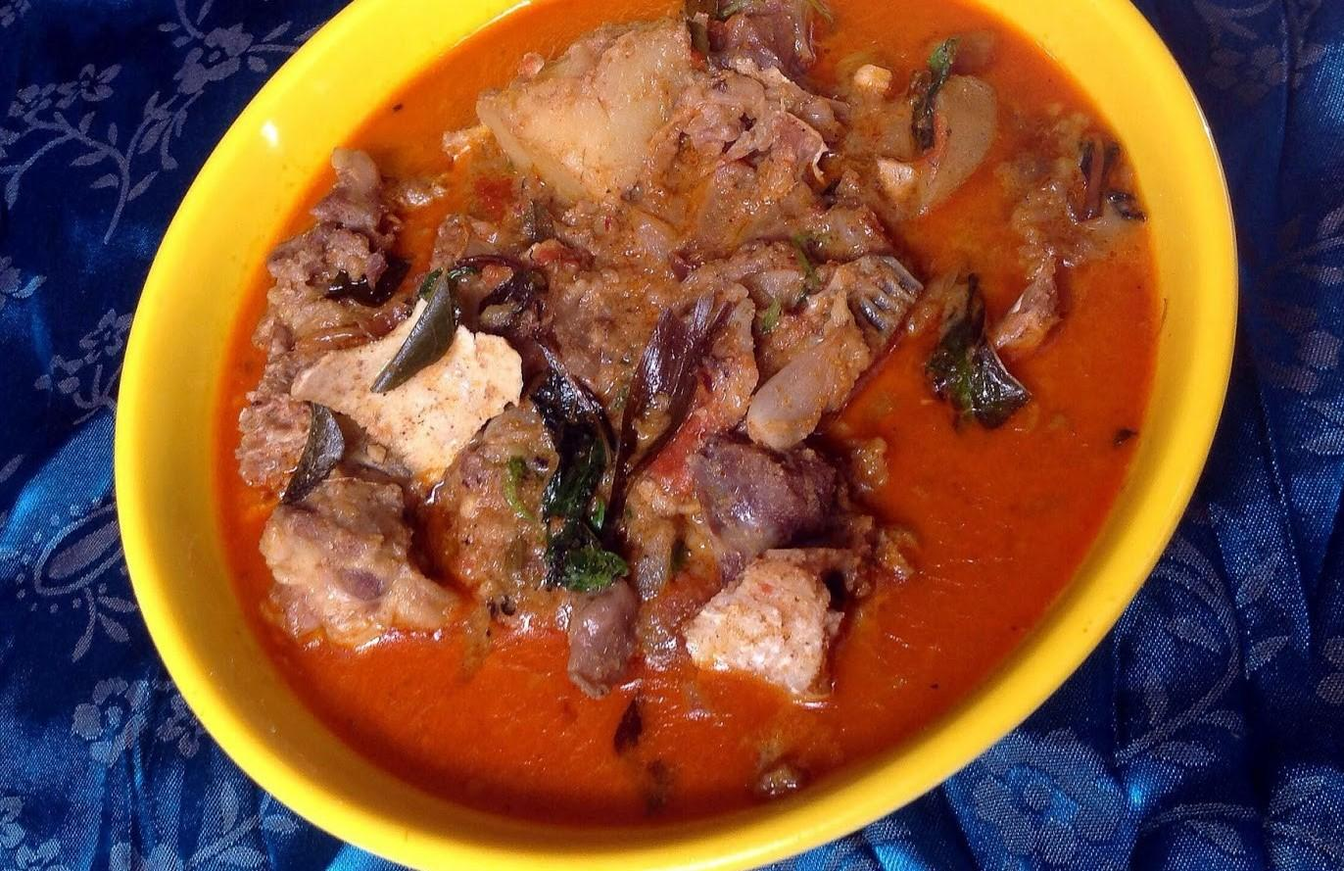MuttonCurry: (210, 0, 1159, 831)
